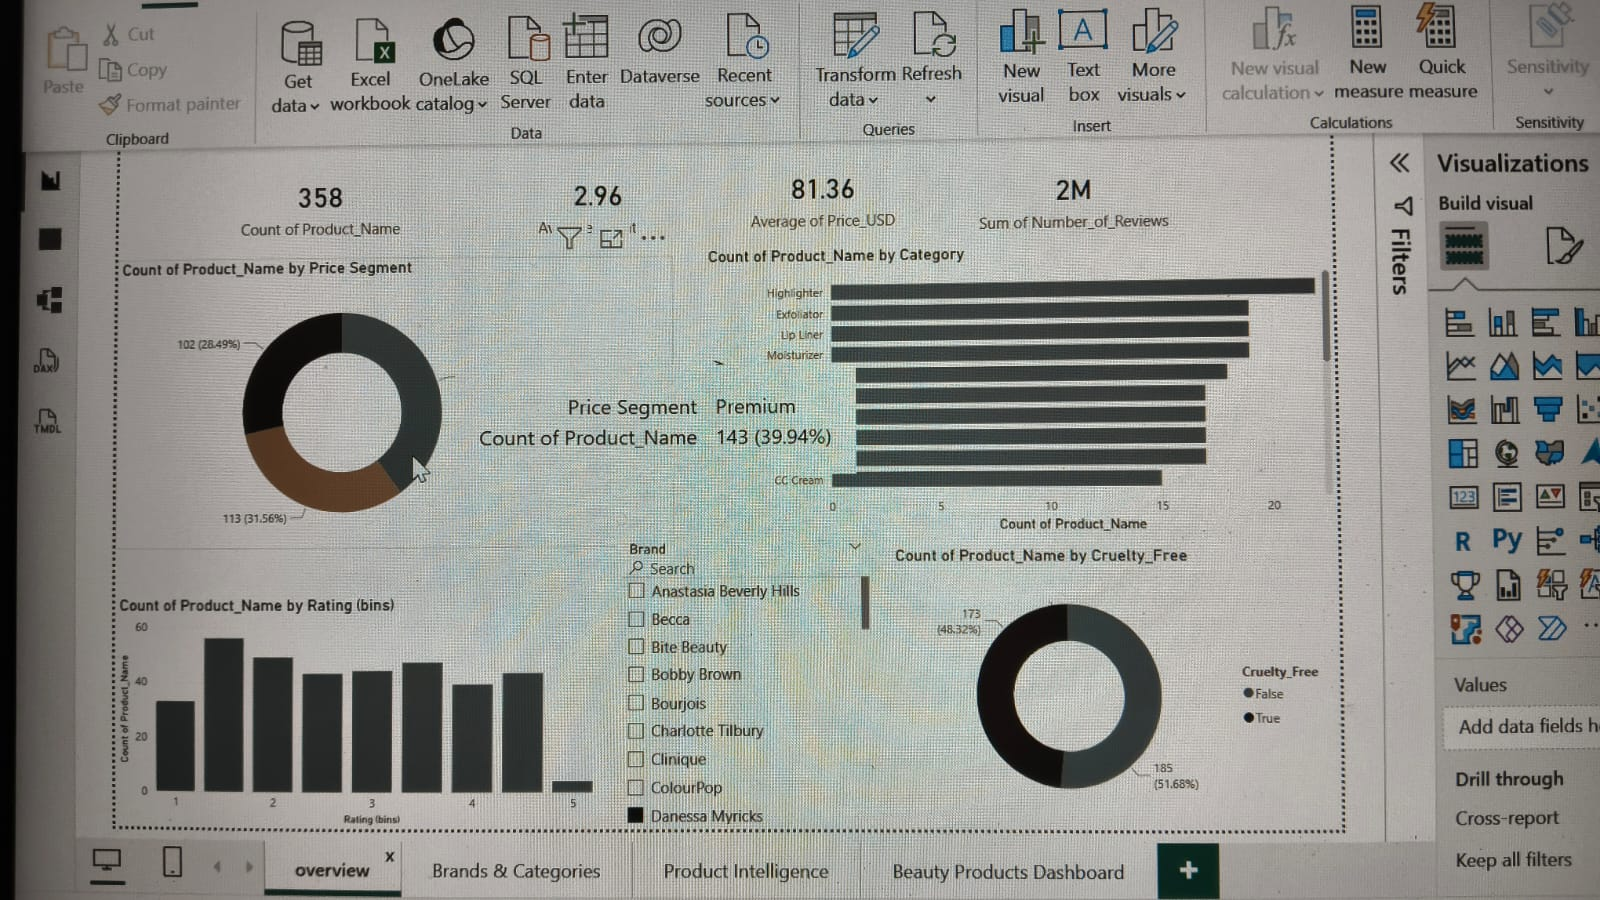

The page's visual inventory and layout, read from the dashboard file:
{"tool":"powerbi","page":{"name":"overview","canvas":[1280,720],"ordinal":0},"visuals":[{"type":"card","fields":{"Values":["CountNonNull(make new.Product_Name)"]},"box":[62.4,9.4,311.8,109.6],"z":0},{"type":"card","fields":{"Values":["Avg(make new.Rating)"]},"box":[370.4,9.4,285.4,109.6],"z":1000},{"type":"card","fields":{"Values":["Avg(make new.Price_USD)"]},"box":[602.8,7.6,298.6,102],"z":2000},{"type":"card","fields":{"Values":["Sum(make new.Number_of_Reviews)"]},"box":[873.1,7.6,281.6,111.5],"z":3000},{"type":"clusteredBarChart","fields":{"Category":["make new.Category"],"Y":["CountNonNull(make new.Product_Name)"]},"box":[625,110.1,655.8,307.7],"z":4000},{"type":"donutChart","fields":{"Category":["make new.Price Segment"],"Y":["CountNonNull(make new.Product_Name)"]},"box":[0,119.8,592.6,307.7],"z":5000},{"type":"columnChart","fields":{"Category":["make new.Rating (bins)"],"Y":["CountNonNull(make new.Product_Name)"]},"box":[0,476.1,513.3,244.5],"z":6000},{"type":"donutChart","fields":{"Category":["make new.Cruelty_Free"],"Y":["CountNonNull(make new.Product_Name)"]},"box":[820.2,427.1,459.2,291],"z":7000},{"type":"slicer","fields":{"Values":["make new.Brand"]},"box":[532.7,416.1,270.4,302.8],"z":8000}]}

Visuals, with their boxes on the page's 1280x720 design canvas (x1, y1, x2, y2). These are canvas units, not pixel positions in the 1600x900 screenshot, which may show the page scaled, cropped or inside an application window:
card - CountNonNull(make new.Product_Name): select_region(62, 9, 374, 119)
card - Avg(make new.Rating): select_region(370, 9, 656, 119)
card - Avg(make new.Price_USD): select_region(603, 8, 901, 110)
card - Sum(make new.Number_of_Reviews): select_region(873, 8, 1155, 119)
clusteredBarChart - make new.Category x CountNonNull(make new.Product_Name): select_region(625, 110, 1281, 418)
donutChart - make new.Price Segment x CountNonNull(make new.Product_Name): select_region(0, 120, 593, 428)
columnChart - make new.Rating (bins) x CountNonNull(make new.Product_Name): select_region(0, 476, 513, 721)
donutChart - make new.Cruelty_Free x CountNonNull(make new.Product_Name): select_region(820, 427, 1279, 718)
slicer - make new.Brand: select_region(533, 416, 803, 719)
